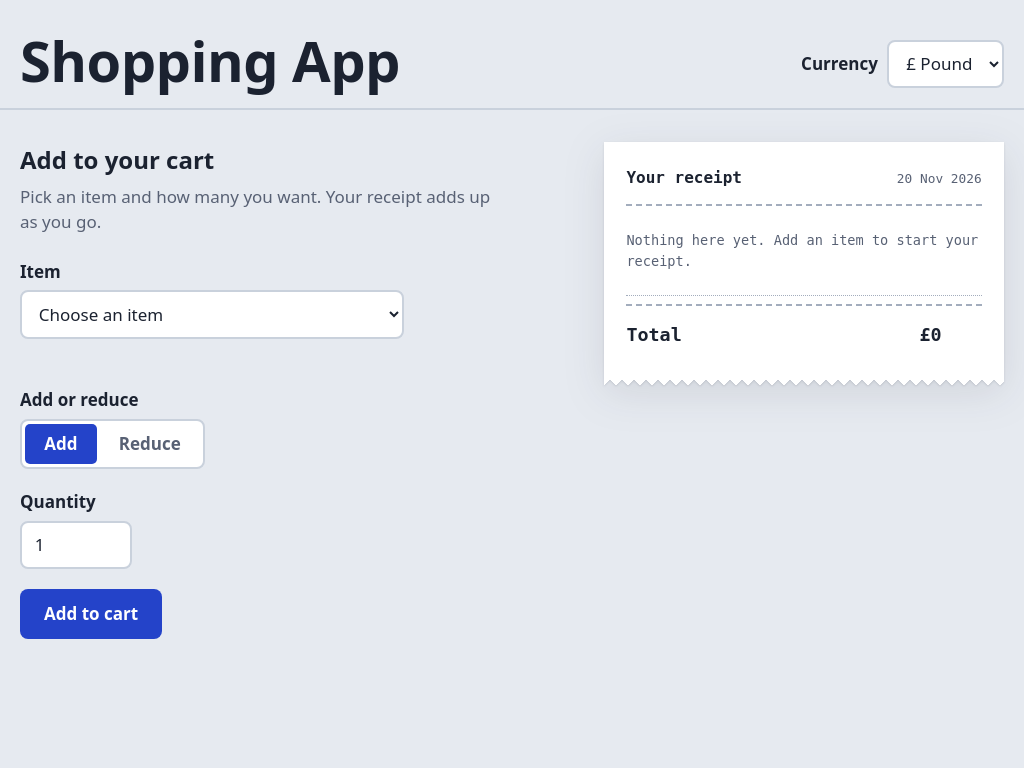
Test: Shopping App › shows the unit price of the chosen item
This screenshot has width=1024, height=768.
Select "Dinner set" in the dropdown labelled "Item" at point(212, 315), box [20,290,404,339]
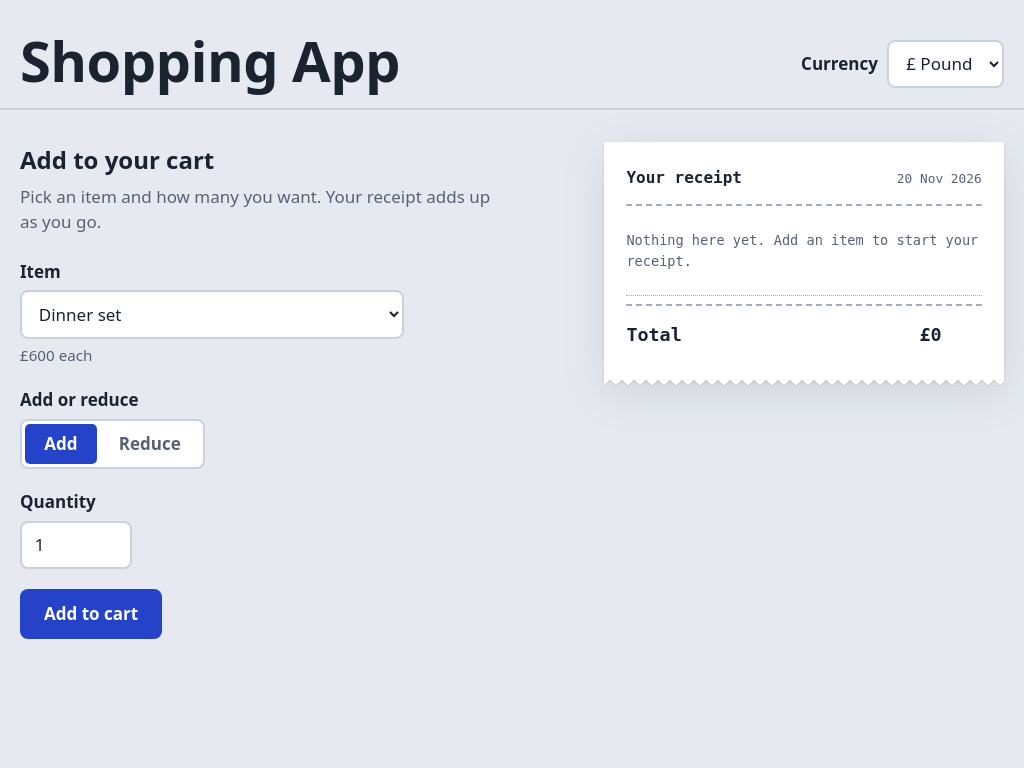
Check: the text "£600 each" is shown, box [20,345,92,365]
